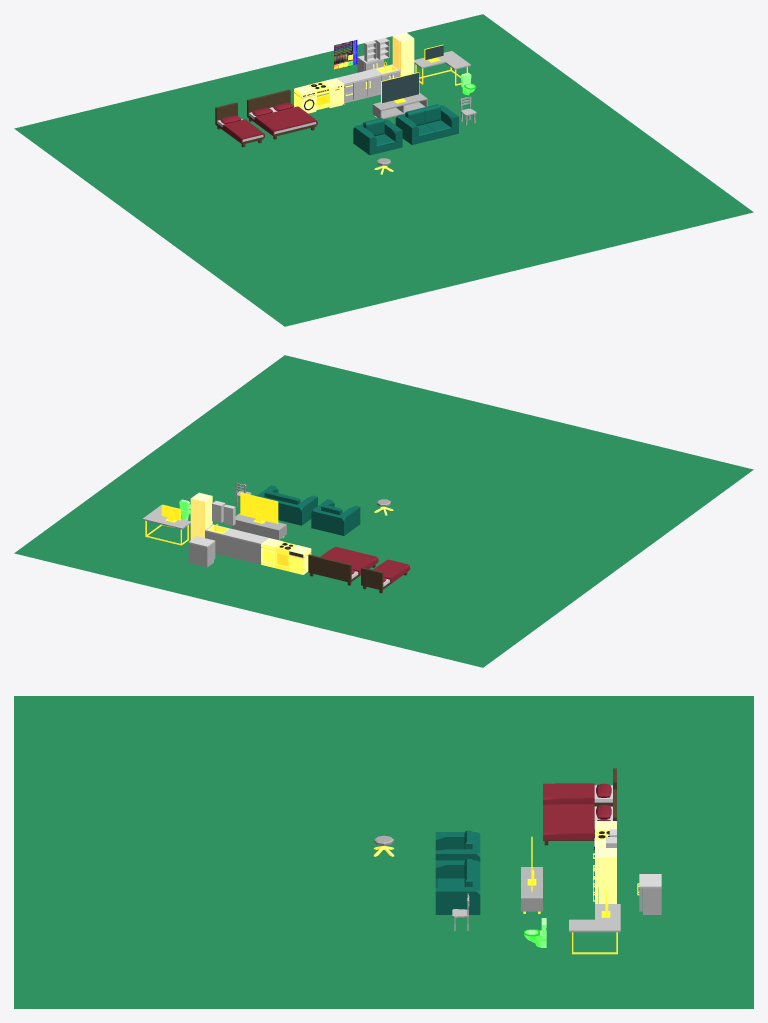
Rendered from furniture.glb.
The picture shows the model from 3 angles, top to bottom: view 1: azimuth 30°, elevation 25°; view 2: azimuth 150°, elevation 25°; view 3: azimuth 270°, elevation 25°; orthographic projection. The views are drawn at different scales.
Visible parts, largest first — view 1: _floor, bed180, Cube.009, Cube.008, bed90, Cube.003, frige, Cube.002, Cube.001, palette, washing_machine; view 2: _floor, bed180, Cube.008, Cube.009, bed90, Cube.003, frige, Cube.002, stand80, Cube.001, washing_machine; view 3: _floor, Cube.009, bed180, bed90, Cube.008, Cube.001, frige, stand80, Cube.002.
Boxes of the visible parts, x1,y1,x2,y2 form: _floor: (14,14,753,326); bed180: (247,89,317,139); Cube.009: (395,104,458,144); Cube.008: (353,118,402,155); bed90: (215,102,265,147); Cube.003: (381,72,419,103); frige: (392,32,414,76); Cube.002: (372,93,427,118); Cube.001: (414,51,470,85); palette: (334,40,357,69); washing_machine: (294,85,316,113); _floor: (14,355,753,667); bed180: (308,546,378,585); Cube.008: (311,499,360,535); Cube.009: (256,485,317,525); bed90: (361,559,410,593); Cube.003: (240,492,278,523); frige: (190,492,212,539); Cube.002: (232,513,286,540); stand80: (188,536,215,567); Cube.001: (142,505,190,545); washing_machine: (289,545,311,574); _floor: (14,696,753,1008); Cube.009: (435,859,480,914); bed180: (543,789,616,845); bed90: (543,768,616,806); Cube.008: (435,830,480,861); Cube.001: (569,904,620,954); frige: (593,848,616,903); stand80: (637,874,661,914); Cube.002: (521,867,542,913).
Bounding box in the file's own units: 20 × 2.31 × 20.
2 materials, 2 textured.
